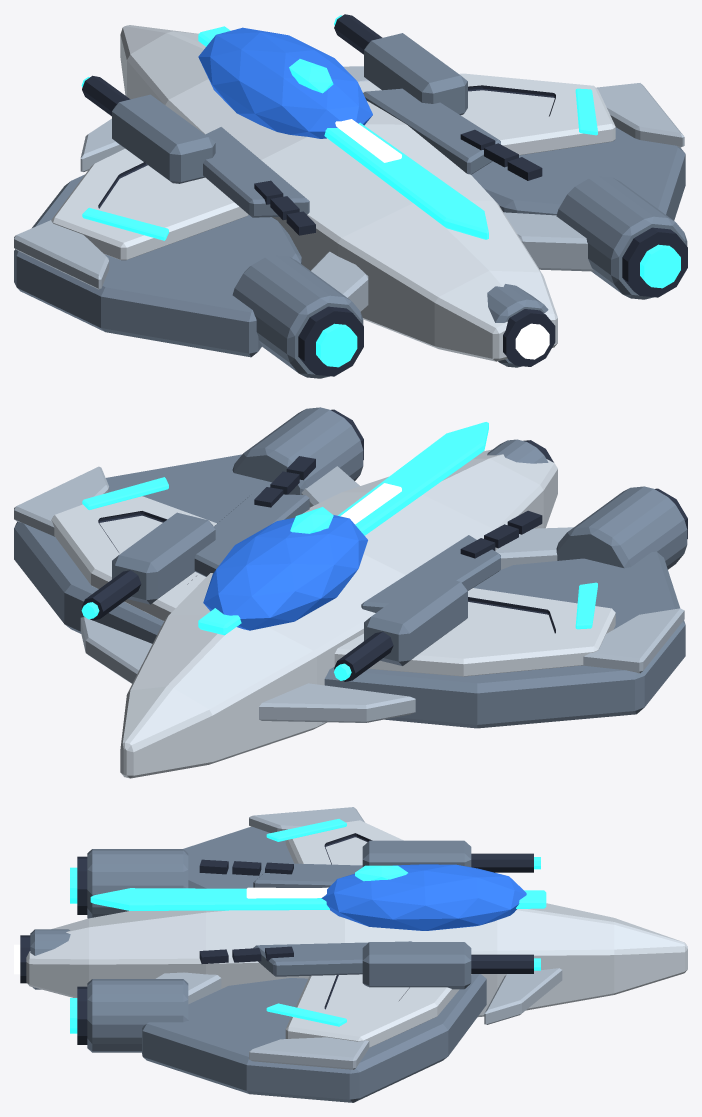
The model's file is farinuff_kestrel_interceptor.glb.
3 renders of one model, top to bottom at view 1: azimuth 30°, elevation 25°; view 2: azimuth 150°, elevation 25°; view 3: azimuth 270°, elevation 25°, orthographic. The views are drawn at different scales.
Parts seen in each view (by area): view 1: Kestrel_MainHull, Kestrel_Wing_L, Kestrel_Cockpit, Kestrel_WingArmor_L, Kestrel_Wing_R, Kestrel_WingArmor_R, Kestrel_Engine_L_Housing, Kestrel_Engine_R_Housing, Kestrel_CannonHousing_L, Kestrel_EnergySpine, Kestrel_CannonHousing_R, Kestrel_Shoulder_R (+20 smaller); view 2: Kestrel_MainHull, Kestrel_Wing_L, Kestrel_Cockpit, Kestrel_WingArmor_L, Kestrel_Wing_R, Kestrel_Engine_L_Housing, Kestrel_WingArmor_R, Kestrel_Engine_R_Housing, Kestrel_CannonHousing_L, Kestrel_EnergySpine, Kestrel_CannonHousing_R, Kestrel_Canard_L (+14 smaller); view 3: Kestrel_MainHull, Kestrel_Wing_R, Kestrel_Cockpit, Kestrel_WingArmor_R, Kestrel_Engine_R_Housing, Kestrel_CannonHousing_R, Kestrel_EnergySpine, Kestrel_Engine_L_Housing, Kestrel_Wing_L, Kestrel_Shoulder_R, Kestrel_LeadingEdge_R, Kestrel_WingArmor_L (+14 smaller).
Part boxes in pixels (x1,y1,x2,y2): Kestrel_MainHull: (120,25,557,361); Kestrel_Wing_L: (14,174,301,357); Kestrel_Cockpit: (198,27,372,138); Kestrel_WingArmor_L: (51,148,248,260); Kestrel_Wing_R: (471,127,685,220); Kestrel_WingArmor_R: (358,73,615,155); Kestrel_Engine_L_Housing: (232,255,363,378); Kestrel_Engine_R_Housing: (556,176,687,299); Kestrel_CannonHousing_L: (112,94,215,183); Kestrel_EnergySpine: (198,26,488,239); Kestrel_CannonHousing_R: (364,33,467,115); Kestrel_Shoulder_R: (363,88,500,174); Kestrel_MainHull: (120,449,557,778); Kestrel_Wing_L: (324,551,685,728); Kestrel_Cockpit: (203,515,367,630); Kestrel_WingArmor_L: (334,588,615,676); Kestrel_Wing_R: (14,454,271,643); Kestrel_Engine_L_Housing: (556,486,687,569); Kestrel_WingArmor_R: (51,496,216,620); Kestrel_Engine_R_Housing: (232,407,363,494); Kestrel_CannonHousing_L: (364,574,467,665); Kestrel_EnergySpine: (198,422,488,635); Kestrel_CannonHousing_R: (112,512,215,604); Kestrel_Canard_L: (259,683,415,722); Kestrel_MainHull: (26,887,687,1016); Kestrel_Wing_R: (142,974,486,1102); Kestrel_Cockpit: (321,864,526,930); Kestrel_WingArmor_R: (285,974,471,1047); Kestrel_Engine_R_Housing: (87,979,188,1052); Kestrel_CannonHousing_R: (362,942,471,989); Kestrel_EnergySpine: (90,888,546,910); Kestrel_Engine_L_Housing: (87,849,188,918); Kestrel_Wing_L: (183,827,294,888); Kestrel_Shoulder_R: (253,941,411,976); Kestrel_LeadingEdge_R: (249,1037,369,1069); Kestrel_WingArmor_L: (285,820,403,865).
Bounding box in the file's own units: 4.39 × 1.02 × 4.95.
